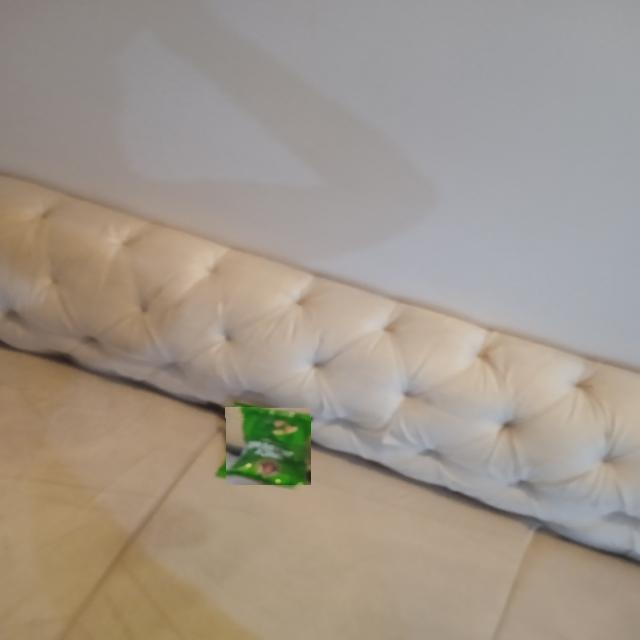Plastic: (226, 406, 312, 485)
